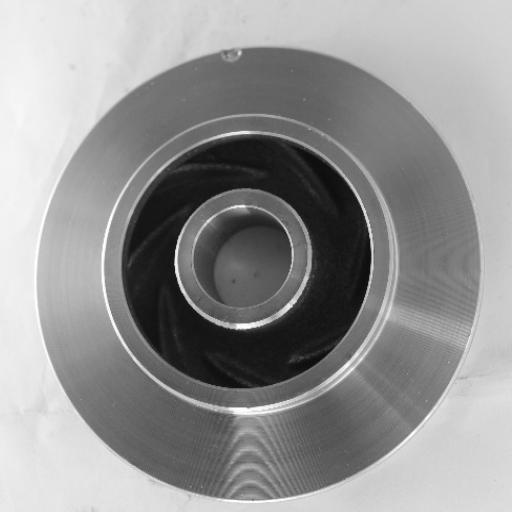crack: (214, 40, 247, 73)
unpolished_casting: (35, 43, 483, 502)
